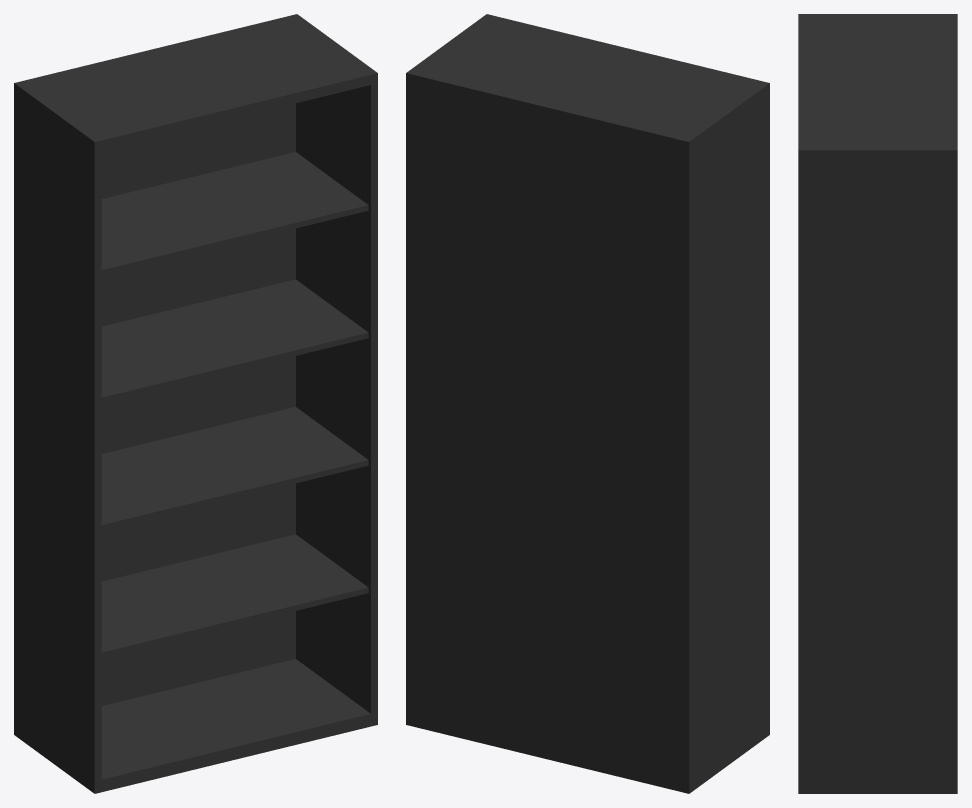
The model's file is shelf_6.glb.
The picture shows the model from 3 angles, left to right: view 1: azimuth 30°, elevation 25°; view 2: azimuth 150°, elevation 25°; view 3: azimuth 270°, elevation 25°; orthographic projection.
Parts seen in each view (by area): view 1: Simple Library; view 2: Simple Library; view 3: Simple Library.
Part boxes in pixels (x1,y1,x2,y2): Simple Library: (14,14,377,793); Simple Library: (406,14,769,793); Simple Library: (798,14,957,793).
Bounding box in the file's own units: 0.9181 × 2.02 × 0.4532.
1 material, 1 textured.
